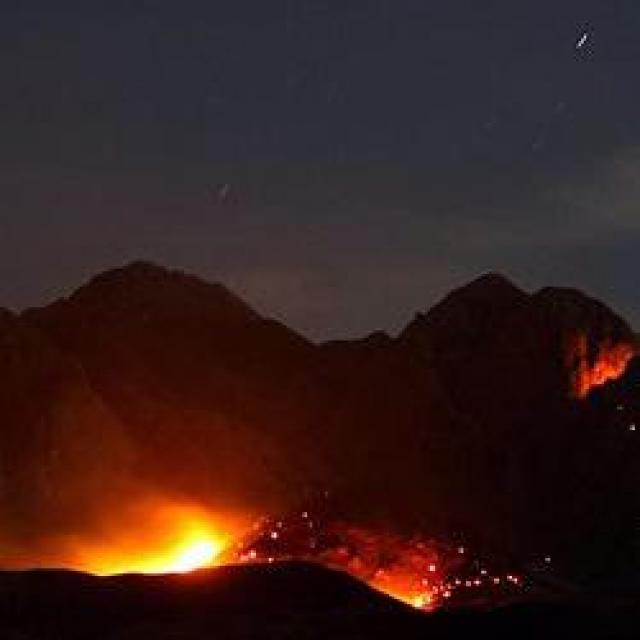fire: (43, 514, 226, 588)
